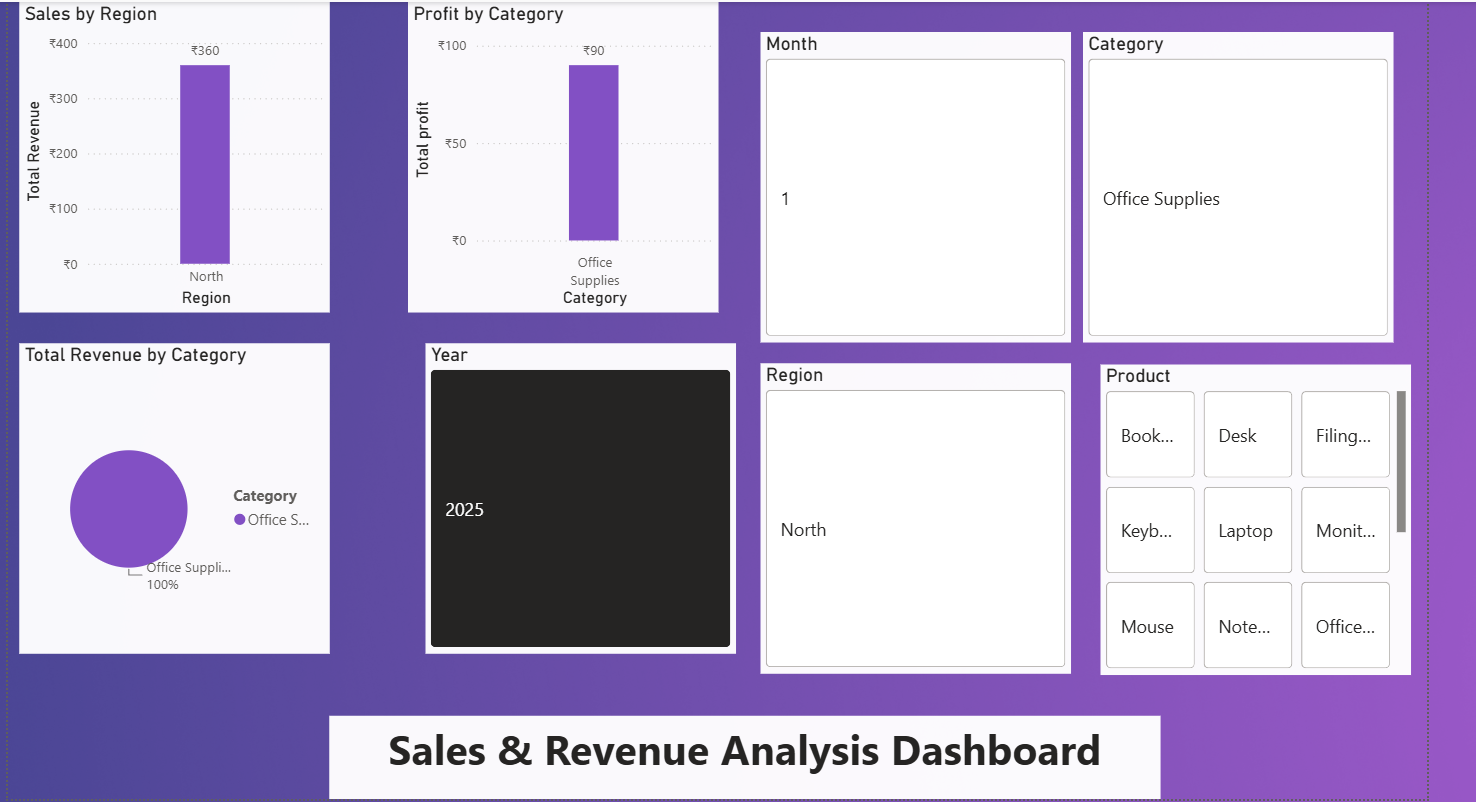

This screenshot's page, from the dashboard's own definition file:
{"tool":"powerbi","page":{"name":"Page 2","canvas":[1280,720],"ordinal":1},"visuals":[{"type":"clusteredColumnChart","title":"Sales by Region","fields":{"Category":["Sheet1.Region"],"Y":["Sheet1.Total Revenue"]},"box":[9.8,0,280,280],"z":0},{"type":"clusteredColumnChart","title":"Profit by Category","fields":{"Category":["Sheet1.Category"],"Y":["Sheet1.Total profit"]},"box":[360.7,0,280,280],"z":1},{"type":"pieChart","fields":{"Category":["Sheet1.Category"],"Y":["Sheet1.Total Revenue"]},"box":[9.8,308.2,280,280],"z":2},{"type":"advancedSlicerVisual","fields":{"Values":["Sheet1.Year"]},"box":[376.6,308.2,280,280],"z":3},{"type":"advancedSlicerVisual","fields":{"Values":["Sheet1.Month"]},"box":[679,27,280,280],"z":4},{"type":"advancedSlicerVisual","fields":{"Values":["Sheet1.Region"]},"box":[678.7,325.3,280,280],"z":5},{"type":"advancedSlicerVisual","fields":{"Values":["Sheet1.Category"]},"box":[969,27,280,280],"z":6},{"type":"advancedSlicerVisual","fields":{"Values":["Sheet1.Product"]},"box":[985.6,326.5,280,280],"z":7},{"type":"textbox","box":[289.8,643.2,749.6,77],"z":8}]}

Visuals, with their boxes in screenshot pixels (x1, y1, x2, y2):
"Sales by Region" clusteredColumnChart: (18, 4, 327, 312)
"Profit by Category" clusteredColumnChart: (405, 4, 713, 312)
pieChart - Sheet1.Category x Sheet1.Total Revenue: (18, 343, 327, 651)
advancedSlicerVisual - Sheet1.Year: (422, 343, 730, 651)
advancedSlicerVisual - Sheet1.Month: (755, 34, 1063, 342)
advancedSlicerVisual - Sheet1.Region: (754, 362, 1063, 670)
advancedSlicerVisual - Sheet1.Category: (1074, 34, 1382, 342)
advancedSlicerVisual - Sheet1.Product: (1092, 363, 1400, 671)
textbox: (327, 712, 1151, 796)
